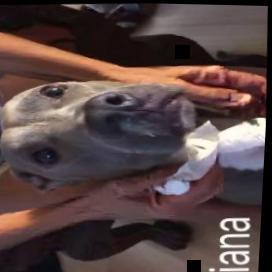nasal_discharge: (91, 108, 155, 143)
